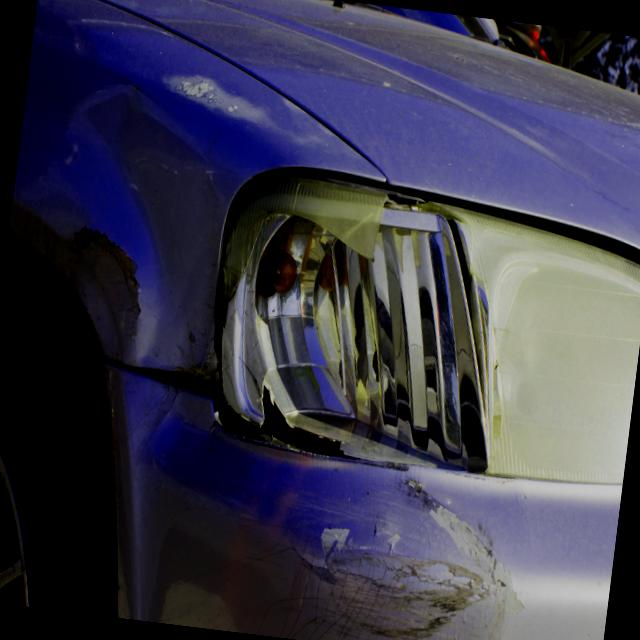Dechirure: (99, 349, 242, 443)
Phare abime: (207, 170, 526, 479)
Rayure: (186, 458, 548, 640), (41, 190, 163, 338)
